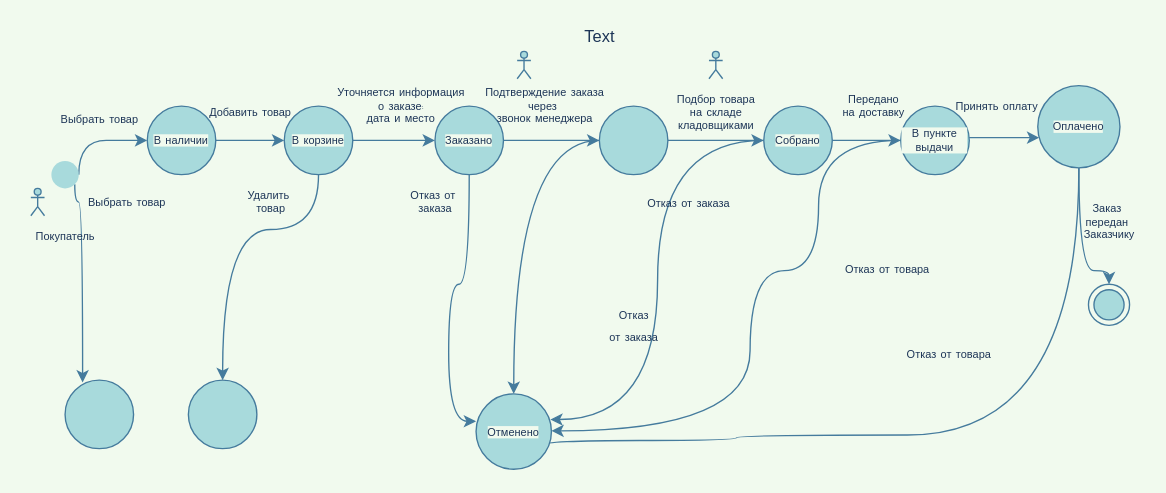
Some shapes in this 1166 by 493 pixel diagram are drawn without their labels. Each missing label, with the centre of its shape:
"Не в корзине" goes at [222,414].
"Нет в наличии" goes at [99,414].
"Обработано" goes at [633,140].
